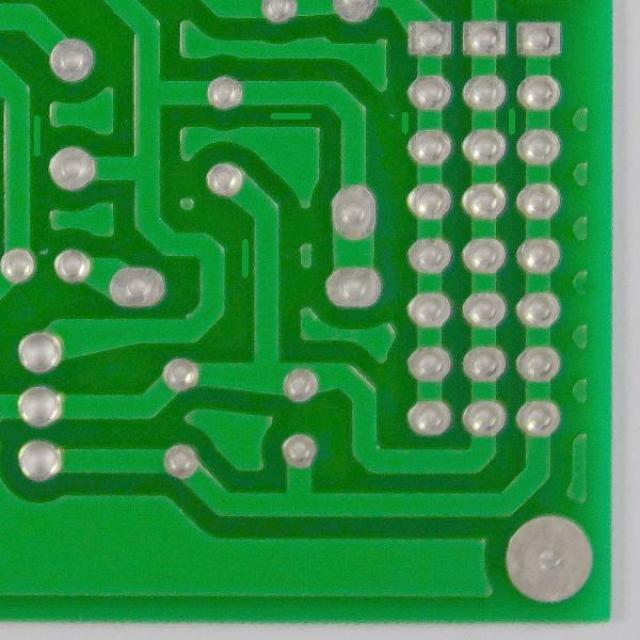Spurious_Cooper: (264, 108, 317, 125), (30, 108, 46, 160), (236, 233, 253, 280), (504, 102, 518, 140), (397, 106, 412, 138)
